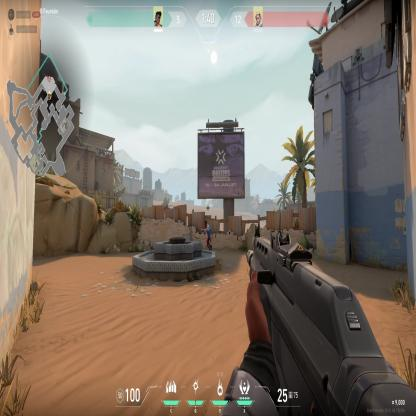enemy: (204, 222, 214, 251)
